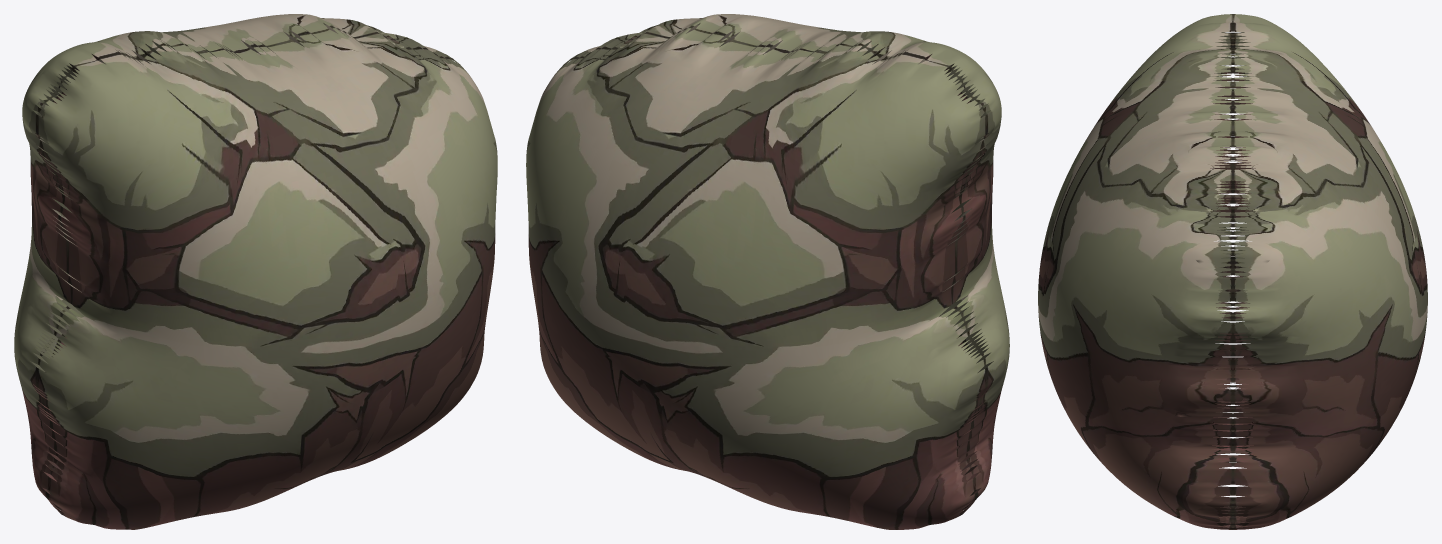
The model's file is cliff_section.glb.
3 renders of one model, left to right at view 1: azimuth 30°, elevation 25°; view 2: azimuth 150°, elevation 25°; view 3: azimuth 270°, elevation 25°, orthographic. The views are drawn at different scales.
Visible parts, largest first — view 1: cliff_section; view 2: cliff_section; view 3: cliff_section.
Boxes of the visible parts, <box> form: cliff_section: <box>14,14,497,529</box>; cliff_section: <box>526,14,1009,529</box>; cliff_section: <box>1038,14,1427,529</box>.
Bounding box in the file's own units: 0.9887 × 0.9943 × 0.8561.
1 material, 1 textured.
